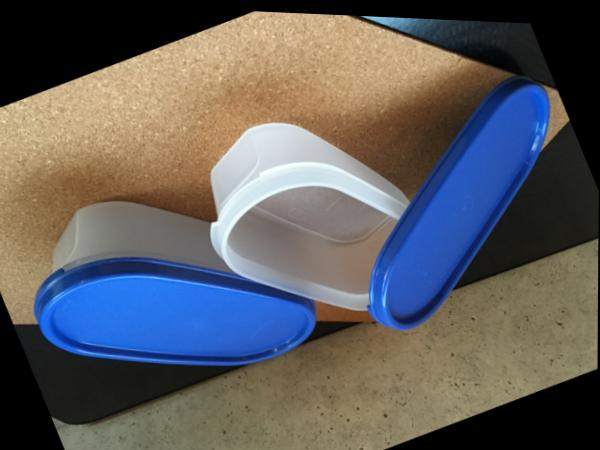plastic: (0, 92, 509, 449)
